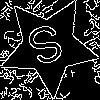S: (23, 21, 71, 77)
